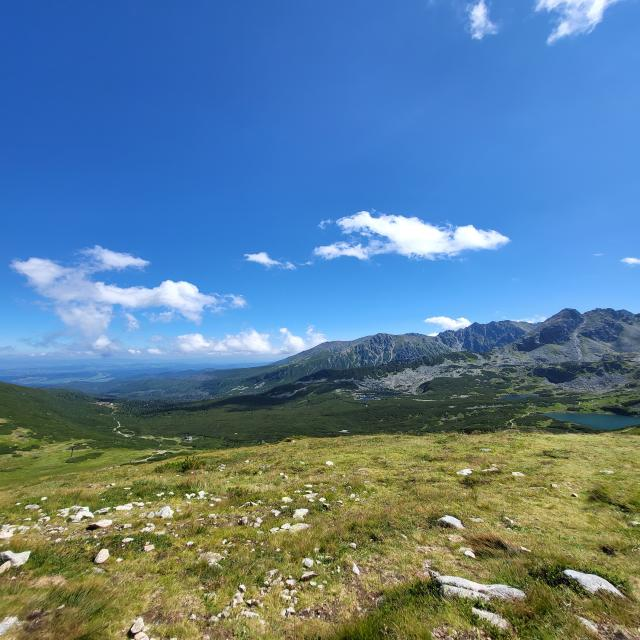Koscielec: (532, 280, 615, 342)
Skrajny i Posredni Granat: (436, 293, 543, 357)
